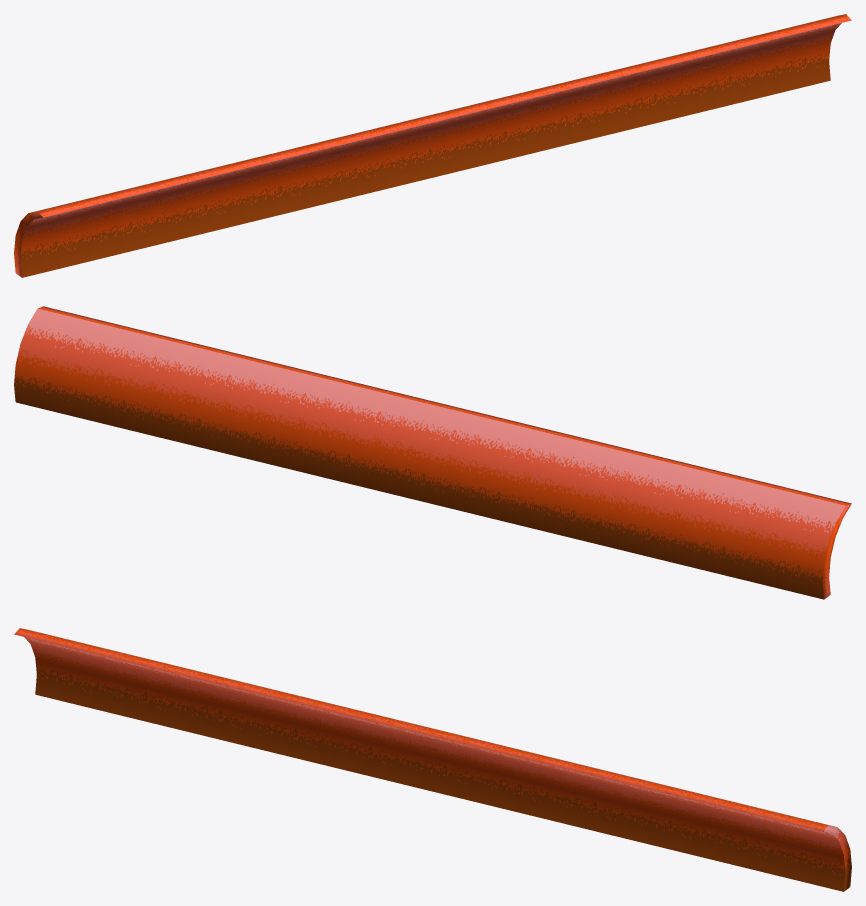
File: Wacky Wave.fbx
The picture shows the model from 3 angles, top to bottom: view 1: azimuth 30°, elevation 25°; view 2: azimuth 150°, elevation 25°; view 3: azimuth 330°, elevation 25°; orthographic projection.
Visible parts, largest first — view 1: Wacky_Wave; view 2: Wacky_Wave; view 3: Wacky_Wave.
Boxes of the visible parts, bbox=[...] form: Wacky_Wave: bbox=[14, 14, 851, 277]; Wacky_Wave: bbox=[14, 306, 851, 599]; Wacky_Wave: bbox=[14, 628, 851, 891].
Size of the model in its own units: 488 by 44.93 by 30.8.
